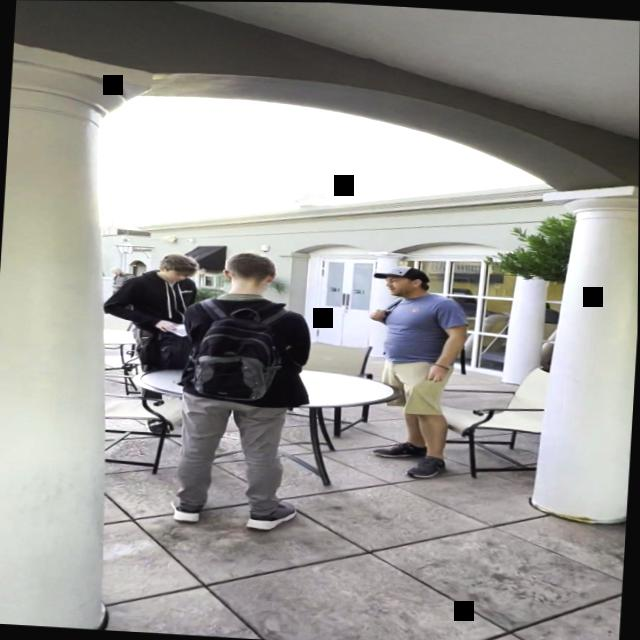NO-Mask: (384, 275, 418, 298), (167, 265, 192, 283)
